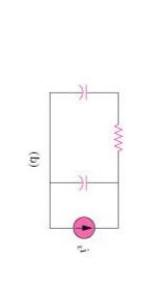resistor: (106, 112, 129, 159)
